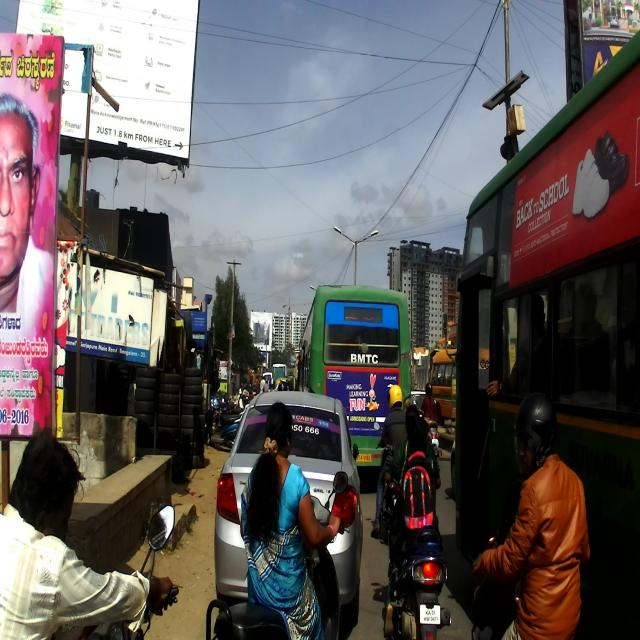Car: (460, 27, 640, 640), (209, 389, 365, 630)
bus: (294, 283, 413, 469)
scooter: (380, 475, 450, 638)
